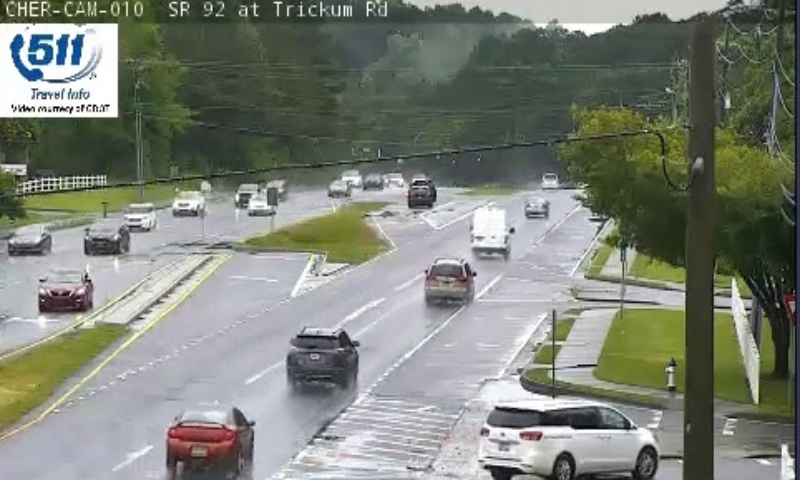car: (164, 407, 253, 463), (287, 326, 356, 384), (424, 261, 473, 299), (524, 196, 551, 220)
van: (471, 207, 507, 252)
